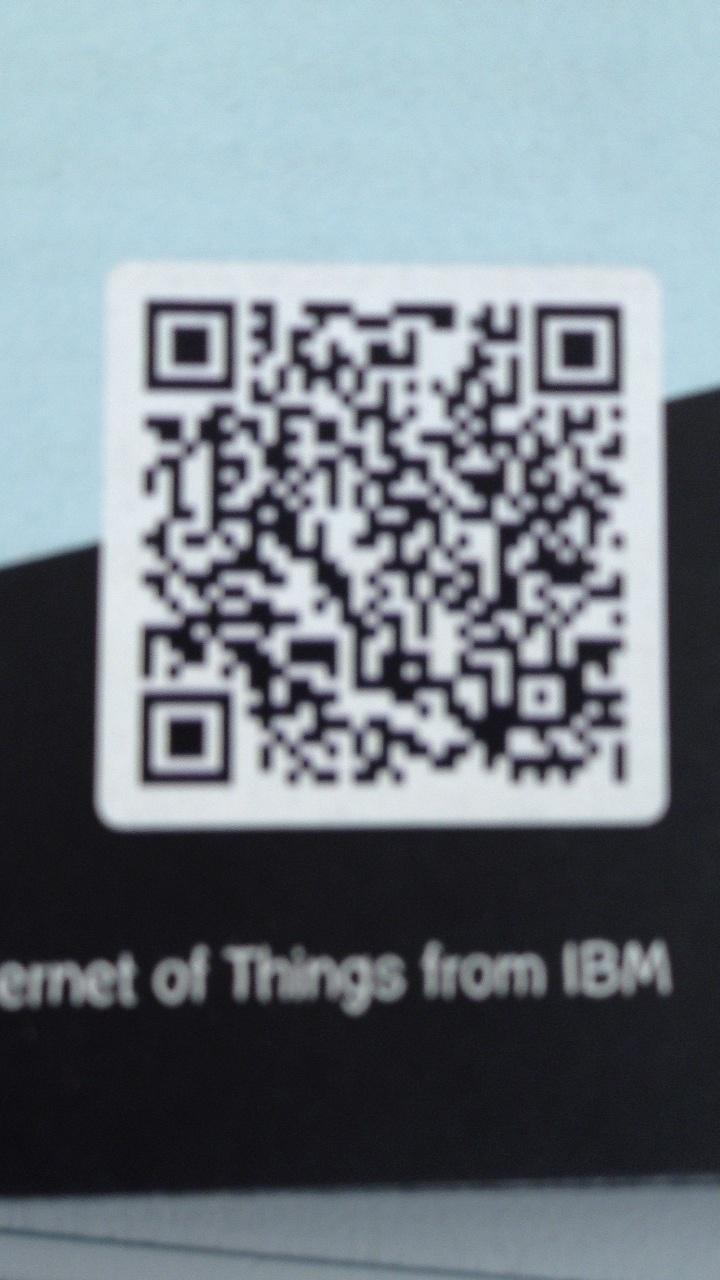Finder pattern: (125, 681, 242, 797), (135, 291, 246, 399), (525, 297, 629, 402)
